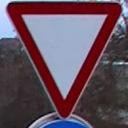preferencia: (6, 0, 124, 120)
